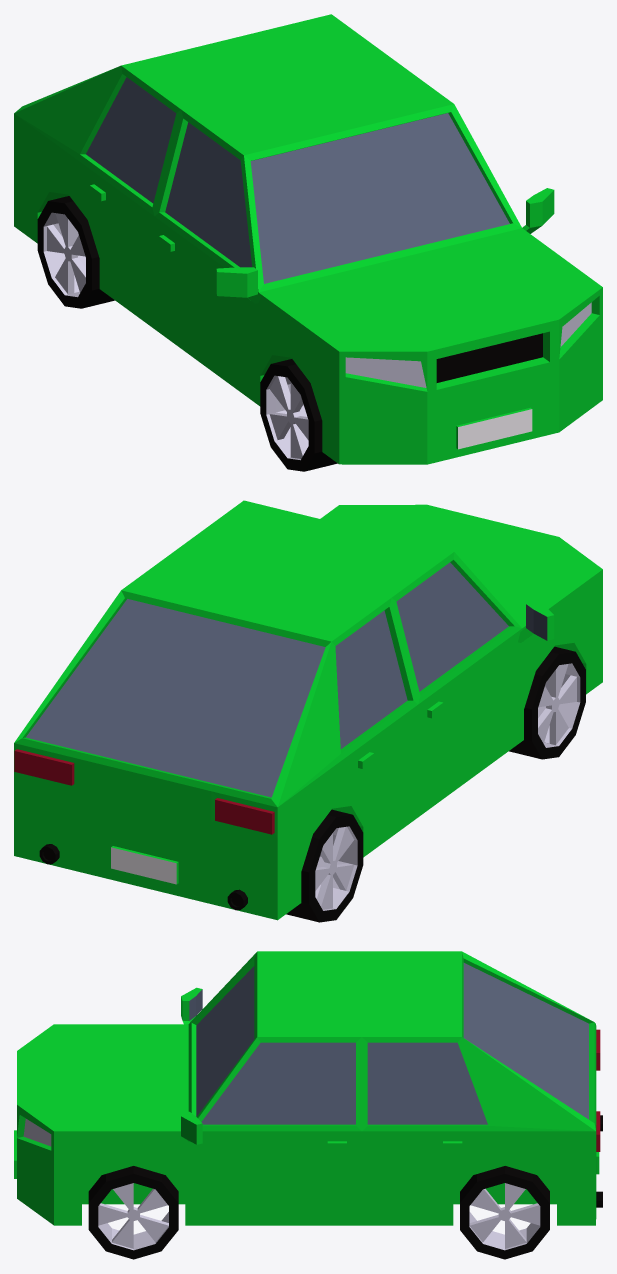
File: camry.glb
The picture shows the model from 3 angles, top to bottom: view 1: azimuth 30°, elevation 25°; view 2: azimuth 150°, elevation 25°; view 3: azimuth 270°, elevation 25°; orthographic projection. The views are drawn at different scales.
Visible parts, largest first — view 1: Hatchback, Hatchback wheel front right, Hatchback wheel rear right; view 2: Hatchback, Hatchback wheel rear right, Hatchback wheel front right; view 3: Hatchback, Hatchback wheel front left, Hatchback wheel rear left.
Boxes of the visible parts, <box> form: Hatchback: <box>14,14,602,464</box>; Hatchback wheel front right: <box>260,359,337,471</box>; Hatchback wheel rear right: <box>37,196,114,308</box>; Hatchback: <box>14,500,602,920</box>; Hatchback wheel rear right: <box>286,809,363,922</box>; Hatchback wheel front right: <box>509,646,585,759</box>; Hatchback: <box>14,951,602,1225</box>; Hatchback wheel front left: <box>88,1166,178,1259</box>; Hatchback wheel rear left: <box>460,1166,549,1259</box>.
Size of the model in its own units: 2.81 by 2.01 by 5.11.
